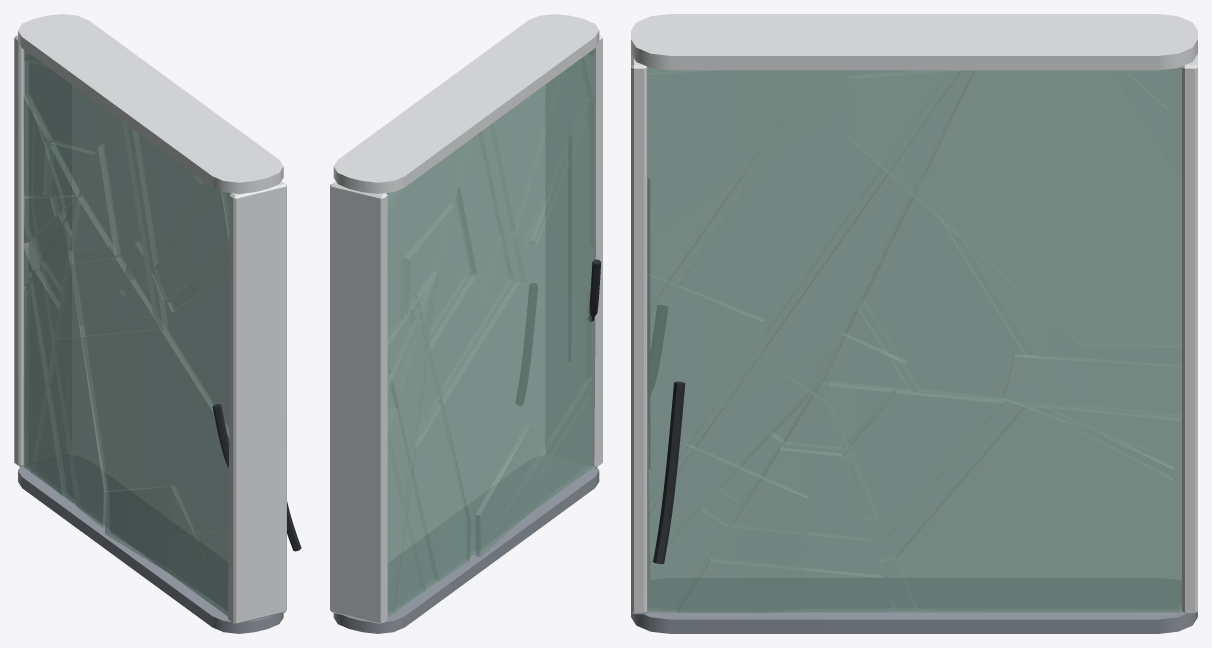
The model's file is vta_cmp_cleanroom_panel_a.glb.
3 views of the same model, side by side, from view 1: azimuth 30°, elevation 25°; view 2: azimuth 150°, elevation 25°; view 3: azimuth 270°, elevation 25° (orthographic). The views are drawn at different scales.
Parts seen in each view (by area): view 1: mesh_light, mesh_intact, mesh_heavy; view 2: mesh_light, mesh_intact, mesh_heavy; view 3: mesh_intact, mesh_light, mesh_heavy.
Boxes of the visible parts, <box> form: mesh_light: <box>22,15,286,621</box>; mesh_intact: <box>23,50,286,622</box>; mesh_heavy: <box>14,14,301,633</box>; mesh_light: <box>334,14,602,615</box>; mesh_intact: <box>386,38,602,617</box>; mesh_heavy: <box>330,14,602,633</box>; mesh_intact: <box>631,66,1181,612</box>; mesh_light: <box>631,14,1197,612</box>; mesh_heavy: <box>631,14,1197,633</box>.
Bounding box in the file's own units: 0.1782 × 0.9 × 0.8.
